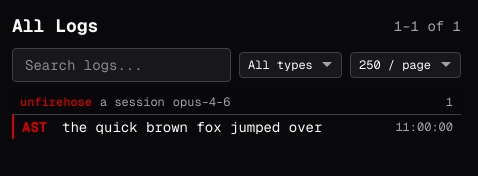
Test case: a log row › collapses again on a second click
The image size is (478, 176).
Click the element showing "AST the quick brown fox jumped over 11:00:00" at (236,127), box [12, 115, 461, 139]
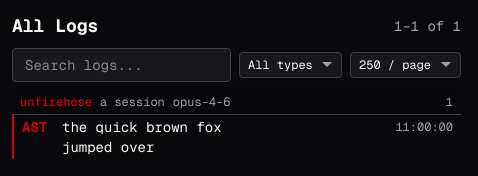
expect the text "the quick brown fox jumped over" is shown: met, box [62, 118, 222, 156]
Click the element showing "AST the quick brown fox jumped over 11:00:00" at (236,137), box [12, 115, 461, 159]
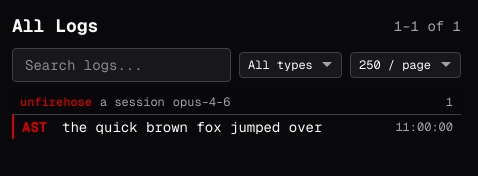
expect the text "the quick brown fox jumped over" is shown: met, box [62, 118, 322, 136]
expect the text with class "whitespace-pre-wrap" is gone: met
